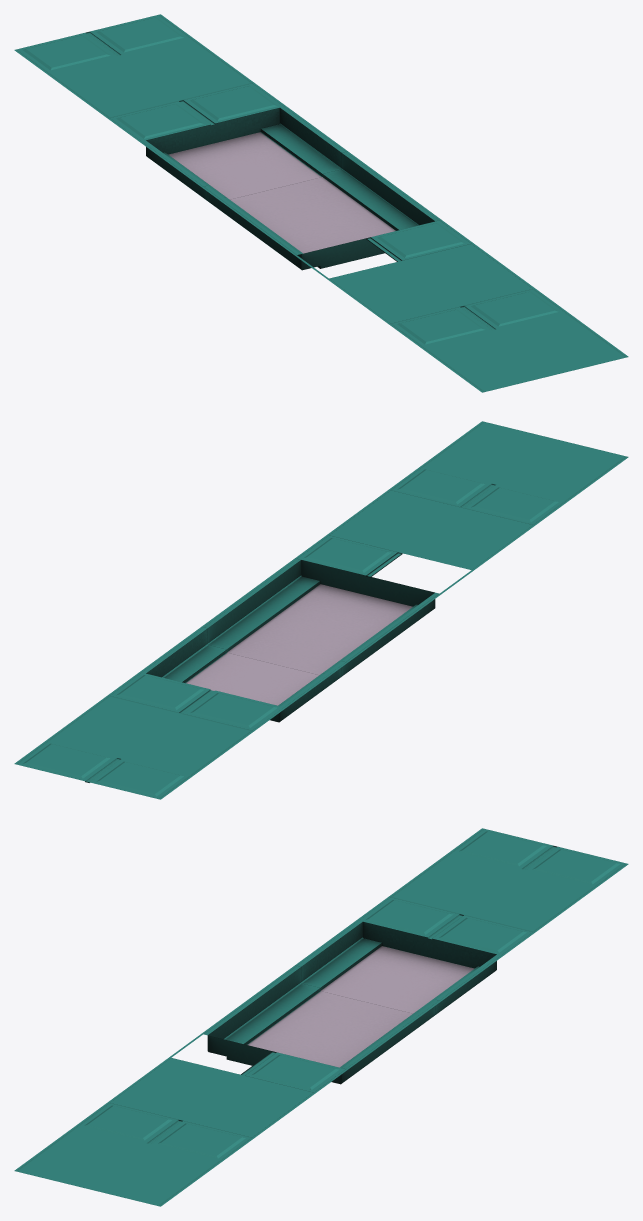
Rendered from sc_lvl1_floortile_17.FBX.
3 views of the same model, one above another, from view 1: azimuth 30°, elevation 25°; view 2: azimuth 150°, elevation 25°; view 3: azimuth 330°, elevation 25° (orthographic).
Parts seen in each view (by area): view 1: sc_lvl1_floortile_17; view 2: sc_lvl1_floortile_17; view 3: sc_lvl1_floortile_17.
Part boxes in pixels (box(x1,y1,x2,y2)): sc_lvl1_floortile_17: box(14, 14, 628, 392); sc_lvl1_floortile_17: box(14, 421, 628, 799); sc_lvl1_floortile_17: box(14, 828, 628, 1206).
Size of the model in its own units: 18.1 by 2.43 by 100.
